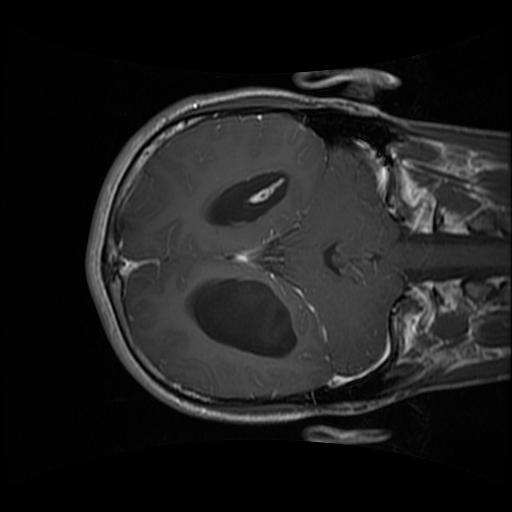glioma: (186, 279, 297, 358)
